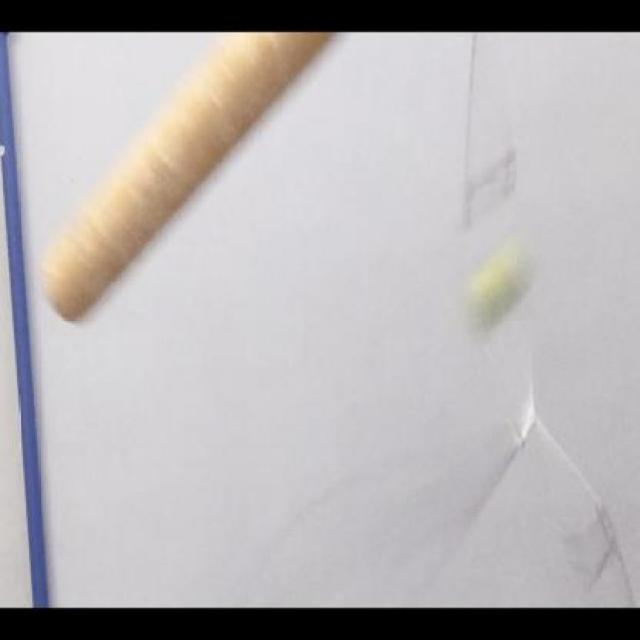baseball: (459, 232, 535, 336)
